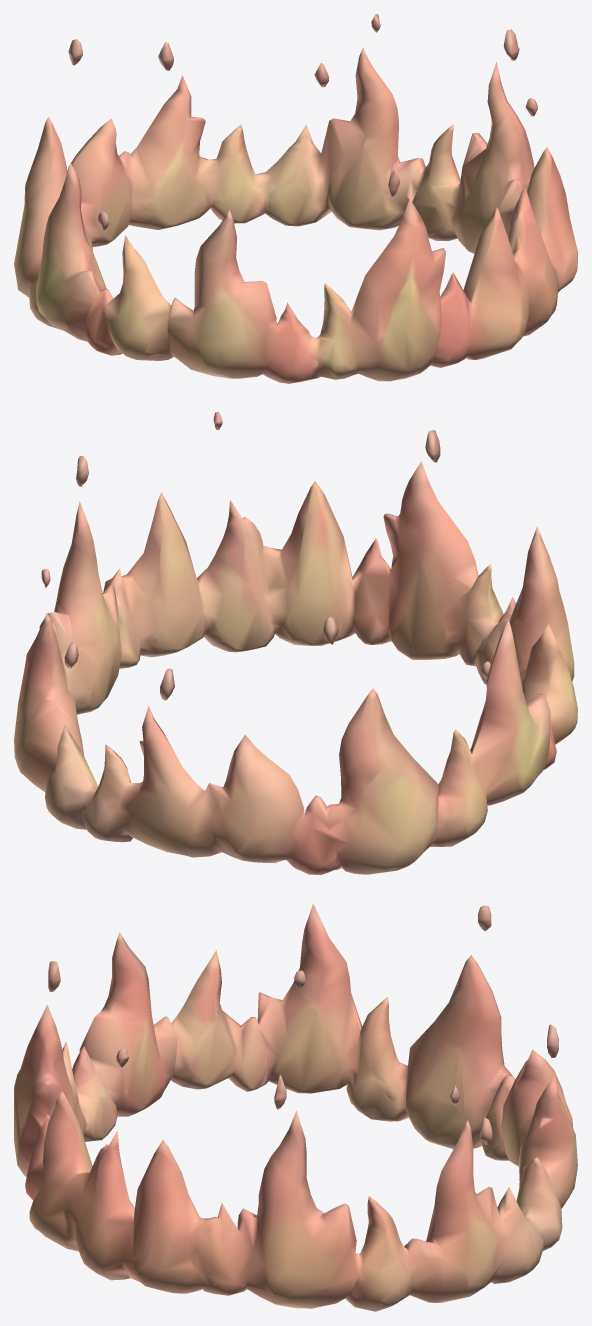
File: fuego_3.glb
3 renders of one model, top to bottom at view 1: azimuth 30°, elevation 25°; view 2: azimuth 150°, elevation 25°; view 3: azimuth 270°, elevation 25°, orthographic. The views are drawn at different scales.
Parts seen in each view (by area): view 1: tripo_node_4bf9987b-eaec-4a9e-8950-4f260a8f5195; view 2: tripo_node_4bf9987b-eaec-4a9e-8950-4f260a8f5195; view 3: tripo_node_4bf9987b-eaec-4a9e-8950-4f260a8f5195.
Part boxes in pixels (left/top/right/bottom): tripo_node_4bf9987b-eaec-4a9e-8950-4f260a8f5195: left=14, top=14, right=577, bottom=383; tripo_node_4bf9987b-eaec-4a9e-8950-4f260a8f5195: left=14, top=412, right=577, bottom=874; tripo_node_4bf9987b-eaec-4a9e-8950-4f260a8f5195: left=14, top=904, right=577, bottom=1311.
Size of the model in its own units: 0.9961 by 0.498 by 0.9902.
1 material, 1 textured.
